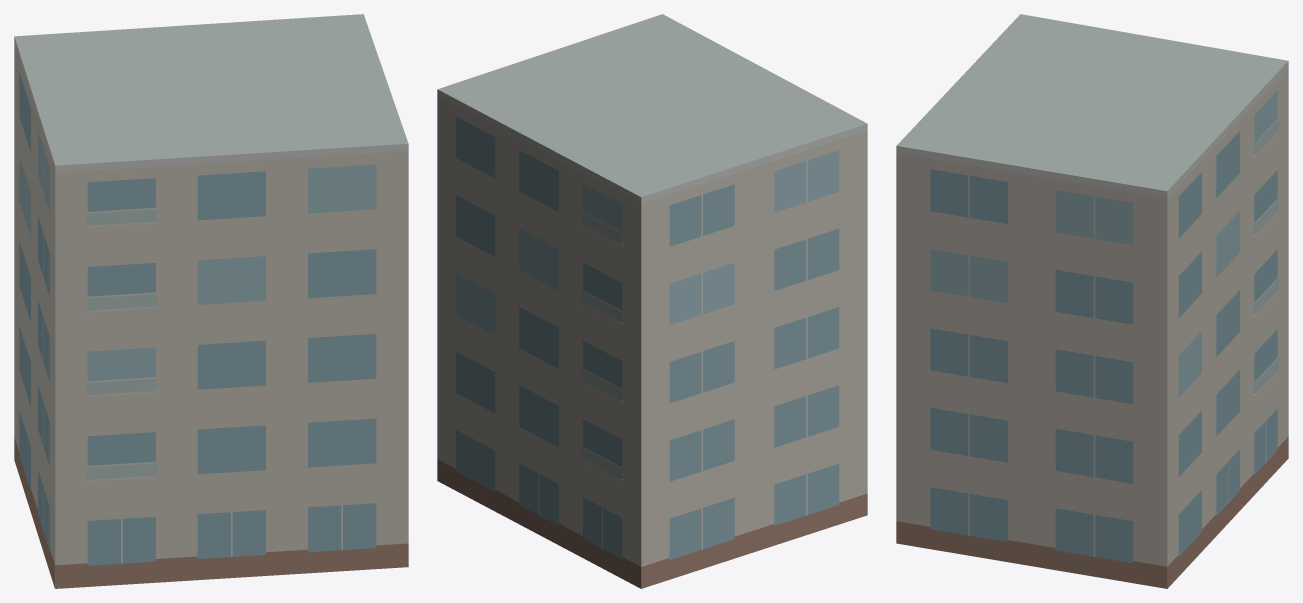
Rendered from survey-upis-32751676.glb.
The picture shows the model from 3 angles, left to right: view 1: azimuth 30°, elevation 25°; view 2: azimuth 150°, elevation 25°; view 3: azimuth 270°, elevation 25°; orthographic projection. The views are drawn at different scales.
Parts seen in each view (by area): view 1: survey-upis-32751676.tmp; view 2: survey-upis-32751676.tmp; view 3: survey-upis-32751676.tmp.
Boxes of the visible parts, box(x1,y1,x2,y2) form: survey-upis-32751676.tmp: box(14, 14, 408, 588); survey-upis-32751676.tmp: box(437, 14, 867, 588); survey-upis-32751676.tmp: box(896, 14, 1288, 588).
Bounding box in the file's own units: 13.58 × 14.2 × 12.7.
